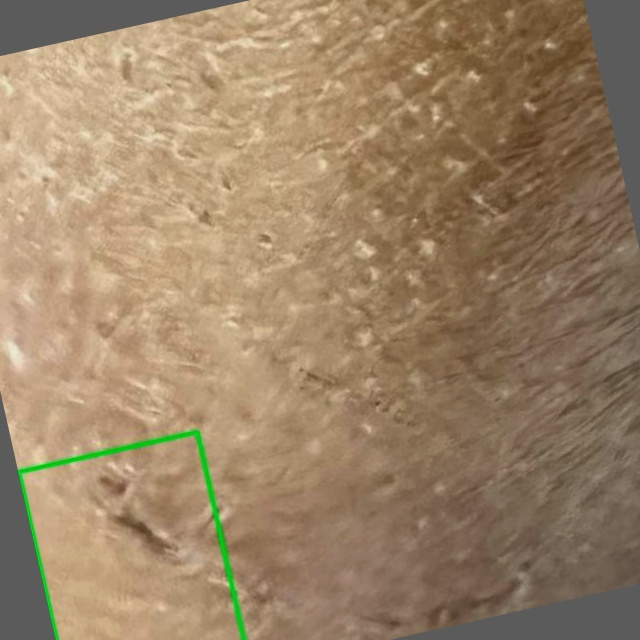Atopic Dermatitis: (18, 431, 243, 639)
